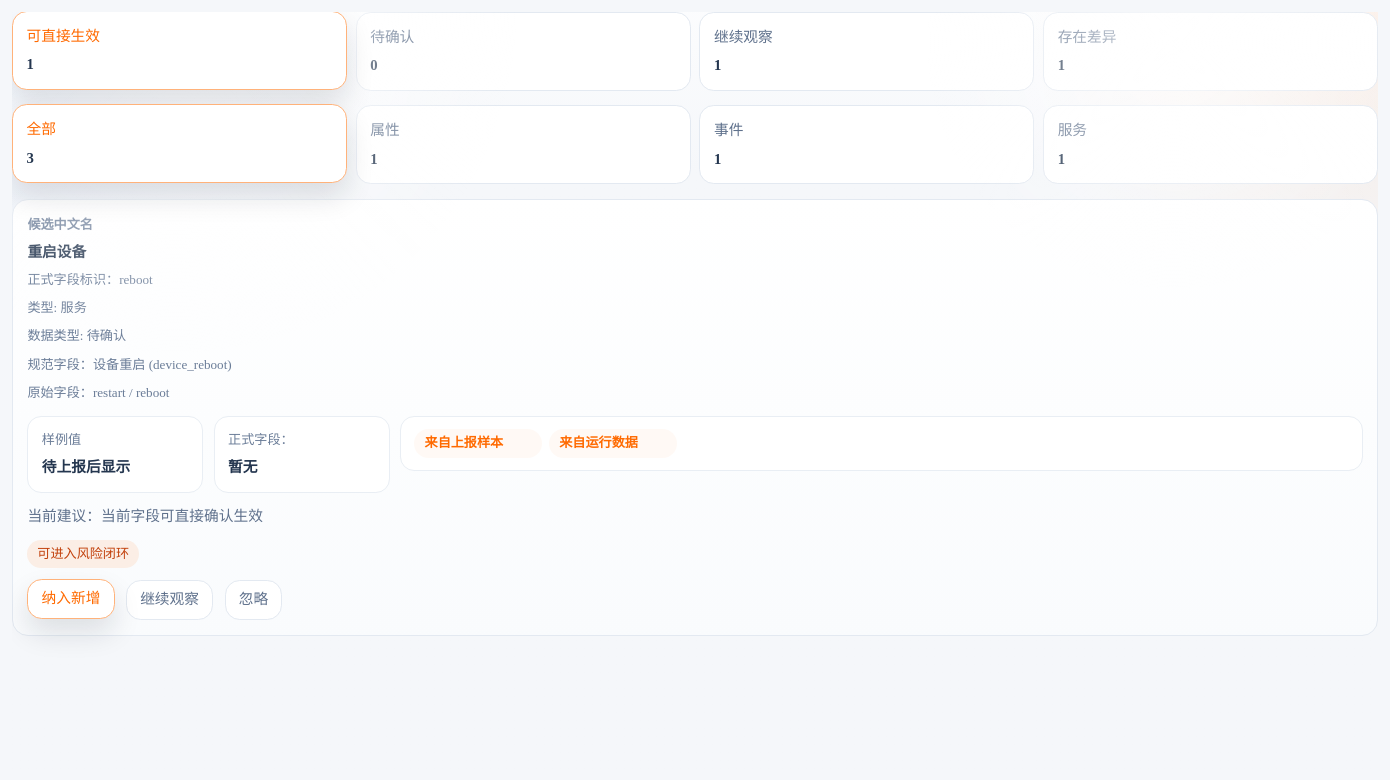
it: ProductModelGovernanceCompareTable › groups rows by simple customer decisions and renders compact result cards
Expected: the text "S1_ZT_1.signal_4g" is not shown
Click the button with test id "governance-group-observe" at [743, 37], box [700,12,1034,91]
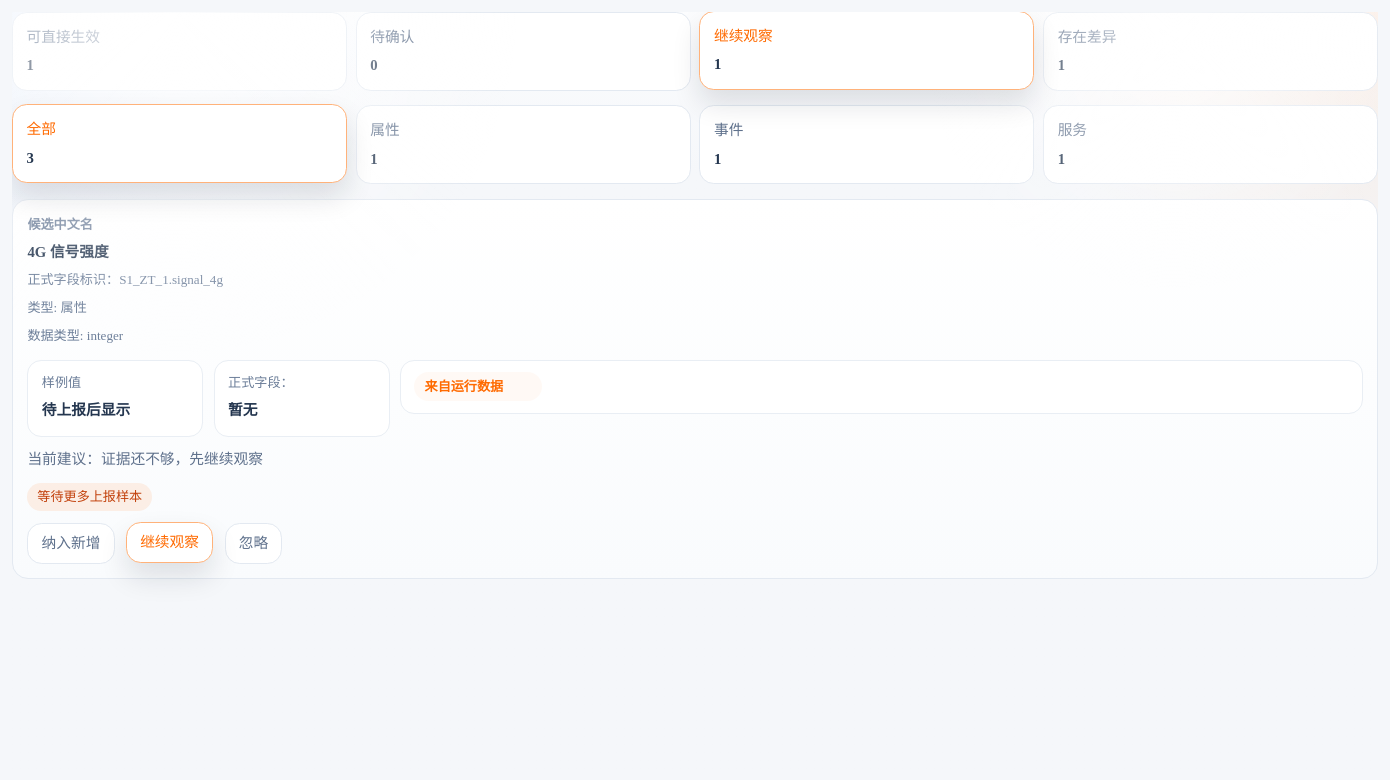
Now the text "S1_ZT_1.signal_4g" is shown, box [27,272,223,287]
Now the text "证据还不够，先继续观察" is shown, box [27,451,263,467]
Now the button with test id "governance-decision-property:S1_ZT_1.signal_4g-observe" reads "继续观察", box [126,522,213,563]
Click the button with test id "governance-group-conflict" at [1087, 37], box [1043,12,1378,91]
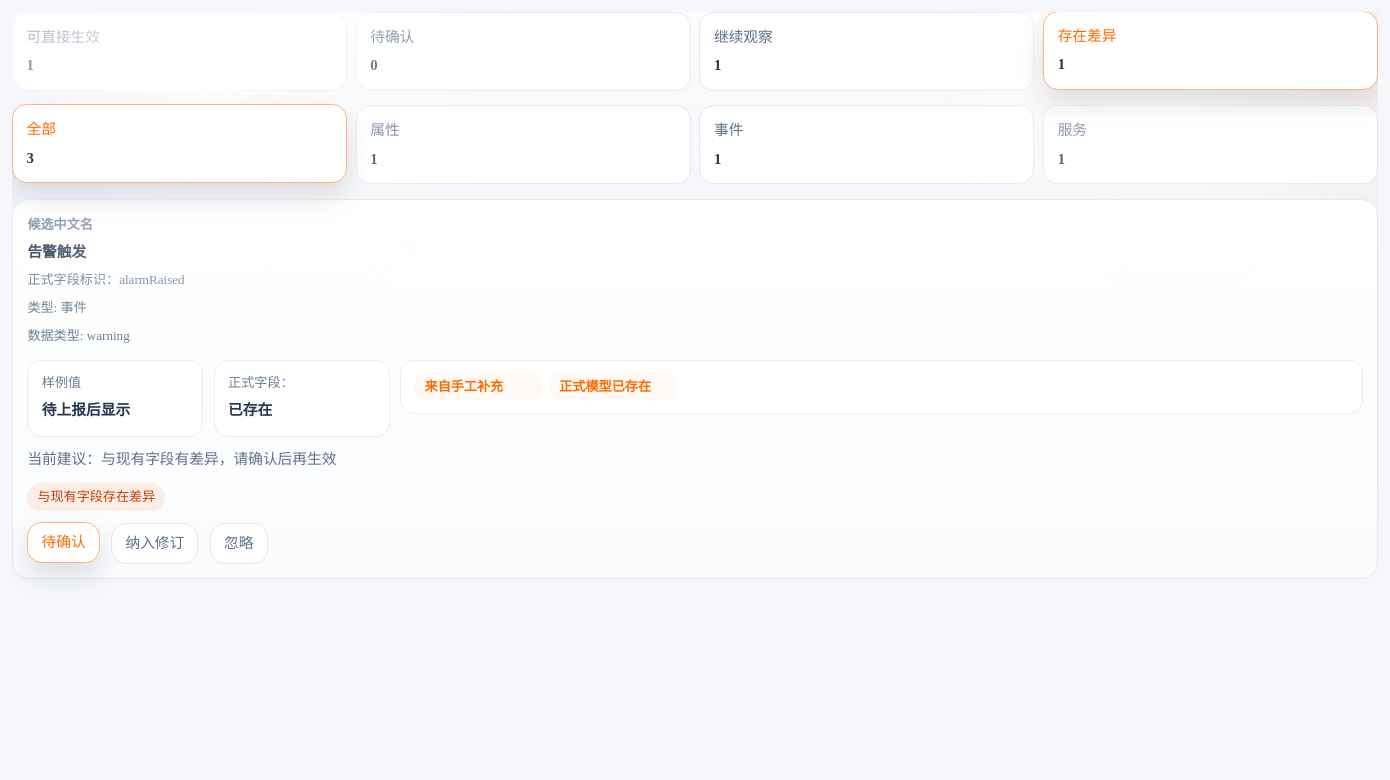
Now the text "alarmRaised" is shown, box [27,272,185,287]
Now the text "正式模型已存在" is shown, box [549,372,677,401]
Now the button with test id "governance-decision-event:alarmRaised-review" reads "待确认", box [27,522,100,563]
